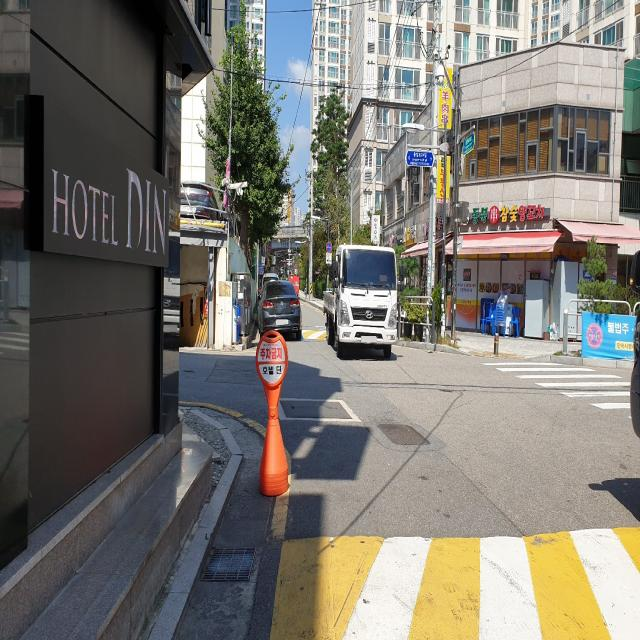횡단보도: (482, 361, 632, 422)
